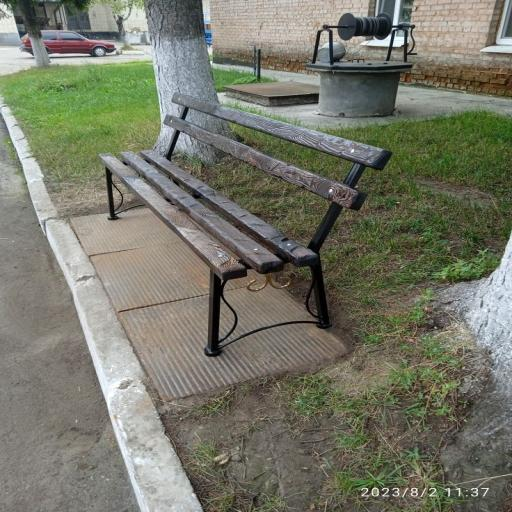bottle: (42, 31, 115, 56), (20, 34, 33, 55)
construction_fence: (0, 82, 208, 511)
shelf: (0, 121, 138, 511)
trash_bin: (100, 94, 390, 355)
